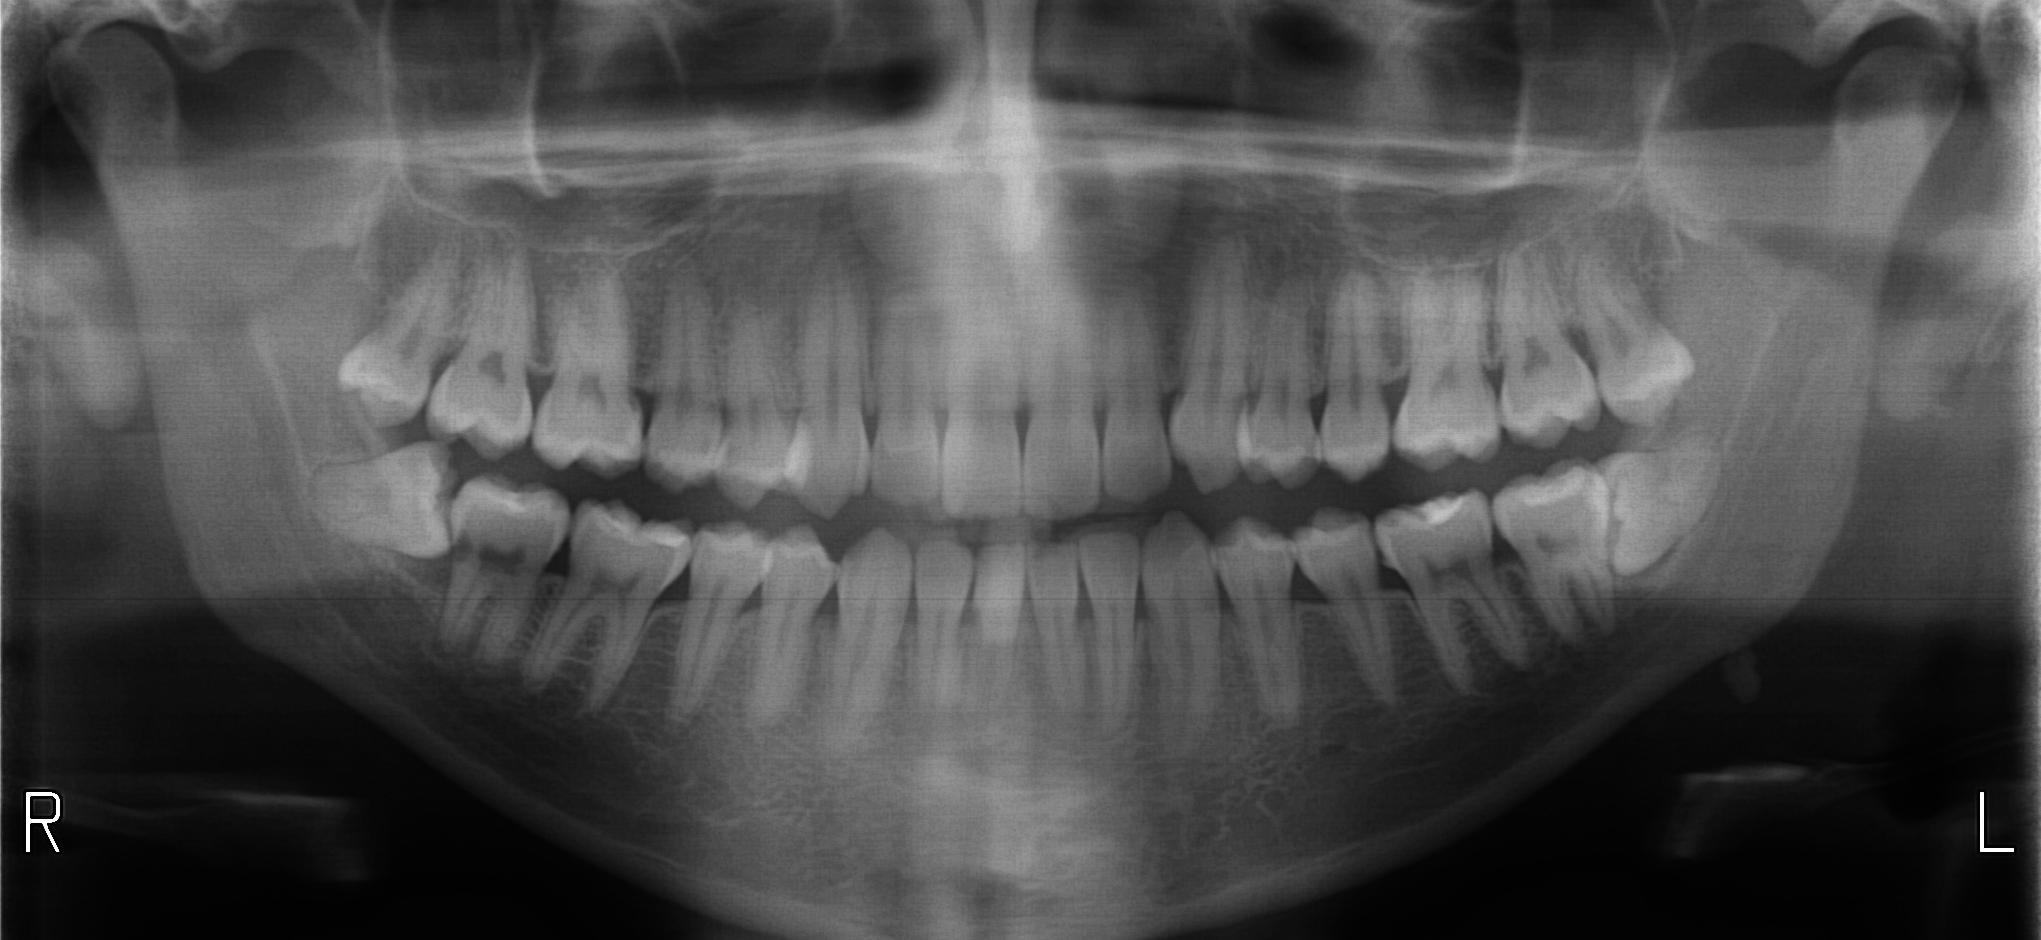cavity: (454, 530, 469, 559)
